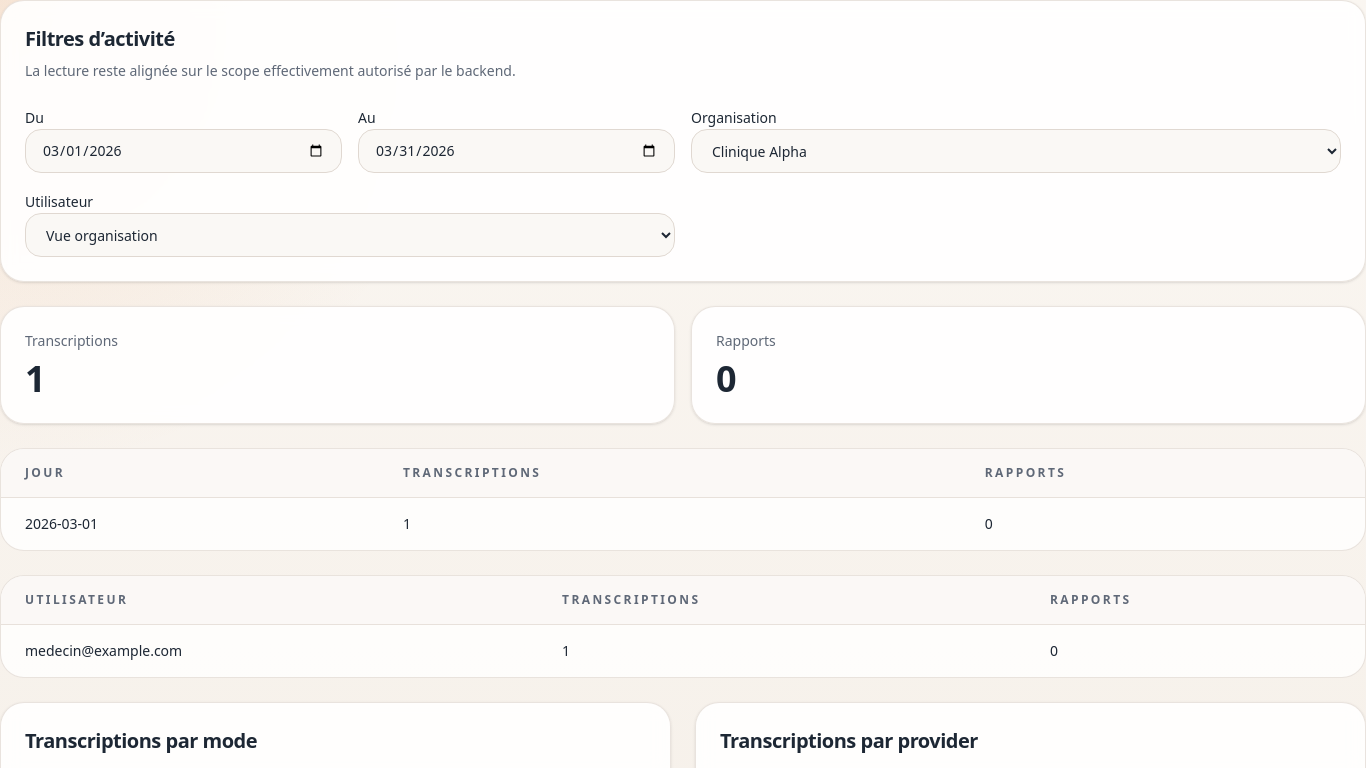
Test: ActivityPage › switches from organization activity to user activity after selection
Expected: the heading "Filtres d’activité" is shown, [25, 25, 175, 52]
Select "medecin@example.com" in the dropdown labelled "Utilisateur" at (350, 235), box [25, 213, 675, 257]
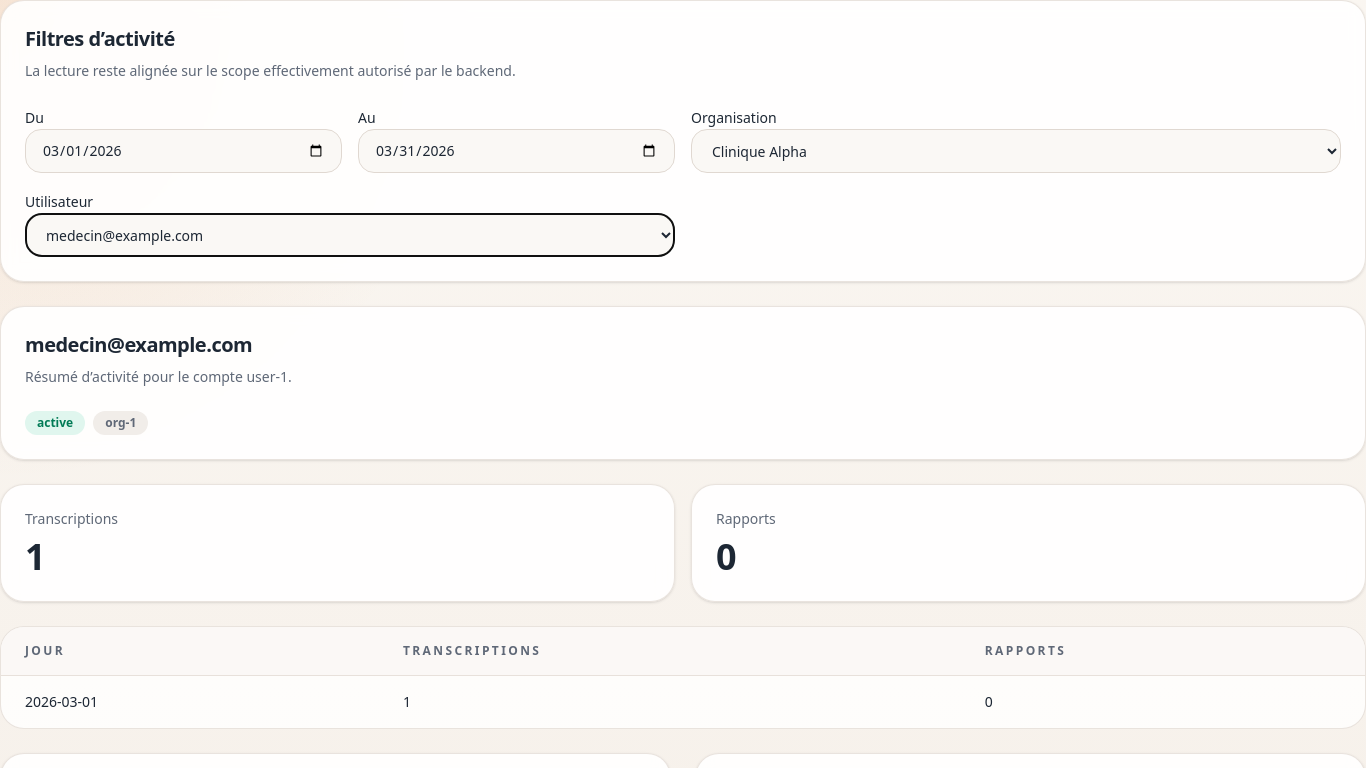
Now the text "Résumé d’activité pour le compte user-1." is shown, box [25, 367, 292, 386]
